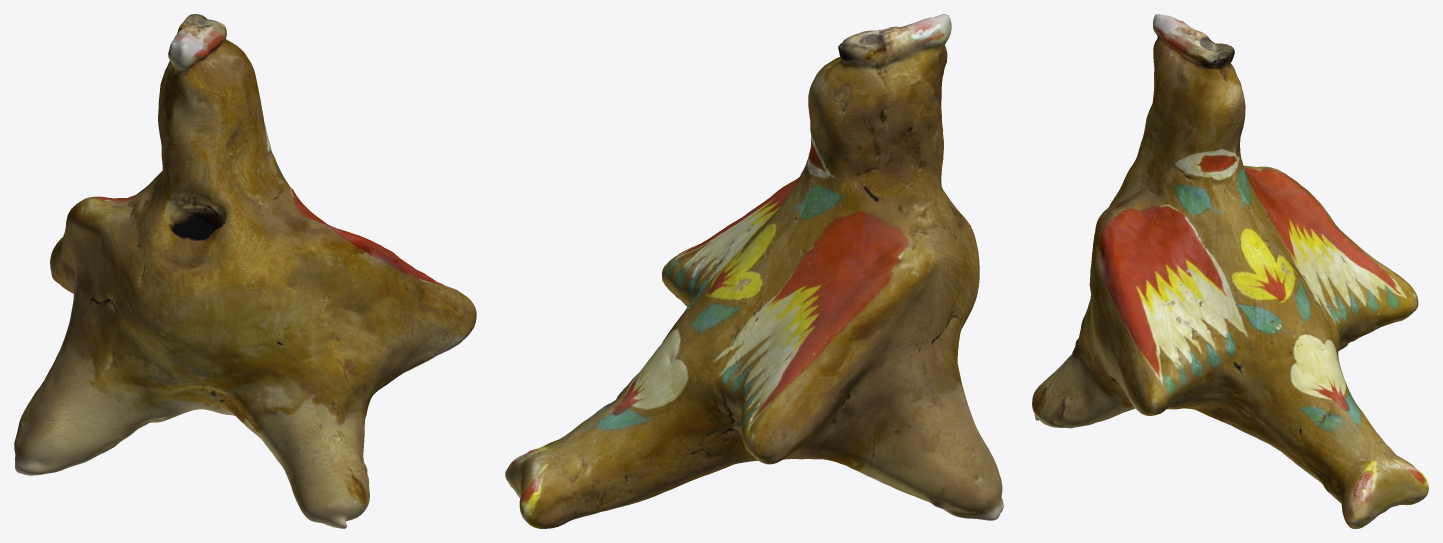
3 views of the same model, side by side, from view 1: azimuth 30°, elevation 25°; view 2: azimuth 150°, elevation 25°; view 3: azimuth 270°, elevation 25° (orthographic). The views are drawn at different scales.
Bounding box in the file's own units: 0.39 × 0.4079 × 0.3735.
1 material, 1 textured.
